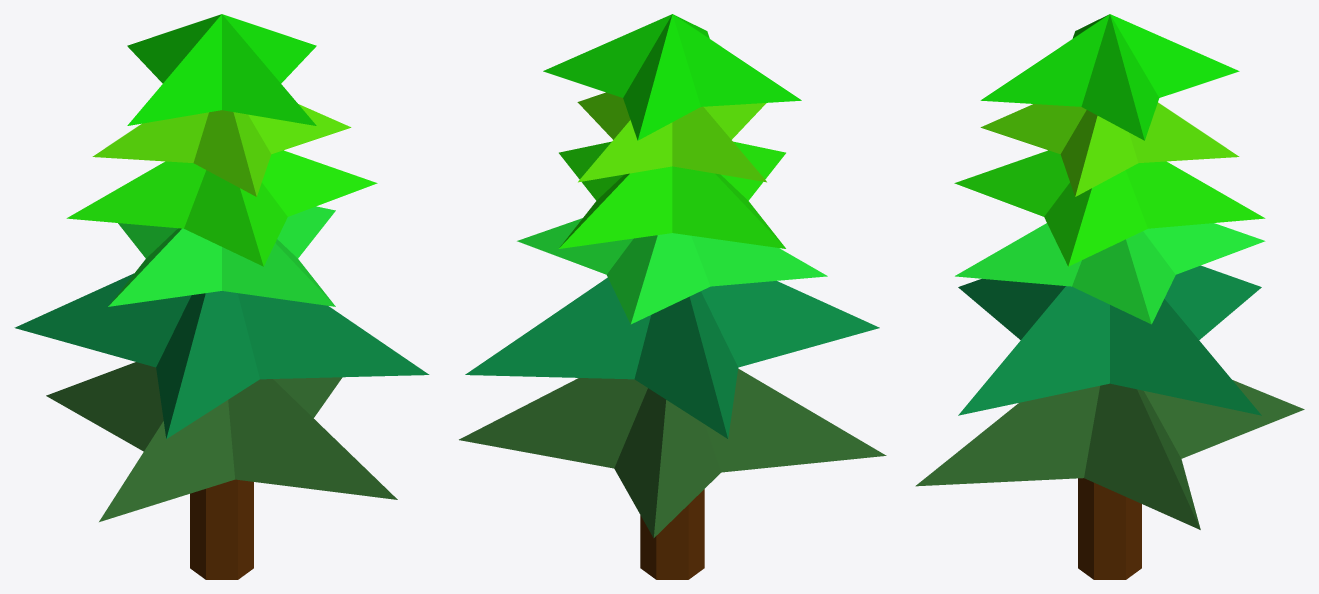
Rendered from Sapin_rond.fbx.
3 renders of one model, left to right at view 1: azimuth 30°, elevation 25°; view 2: azimuth 150°, elevation 25°; view 3: azimuth 270°, elevation 25°, orthographic.
Parts seen in each view (by area): view 1: Branche02, Branche01, Branche04, Branche06, Branche03, Branche05, Tronc_Sapin_rond; view 2: Branche01, Branche02, Branche06, Branche04, Branche03, Branche05, Tronc_Sapin_rond; view 3: Branche02, Branche01, Branche04, Branche06, Branche03, Branche05, Tronc_Sapin_rond.
Part boxes in pixels (x1=…): Branche02: x1=14, y1=273, x2=429, y2=438; Branche01: x1=46, y1=362, x2=397, y2=521; Branche04: x1=66, y1=150, x2=377, y2=266; Branche06: x1=127, y1=14, x2=316, y2=125; Branche03: x1=108, y1=206, x2=335, y2=306; Branche05: x1=92, y1=104, x2=351, y2=196; Tronc_Sapin_rond: x1=190, y1=479, x2=253, y2=579; Branche01: x1=459, y1=368, x2=886, y2=537; Branche02: x1=465, y1=277, x2=879, y2=438; Branche06: x1=543, y1=14, x2=801, y2=140; Branche04: x1=559, y1=141, x2=785, y2=248; Branche03: x1=517, y1=218, x2=827, y2=324; Branche05: x1=577, y1=92, x2=766, y2=182; Tronc_Sapin_rond: x1=640, y1=489, x2=704, y2=579; Branche02: x1=958, y1=265, x2=1261, y2=415; Branche01: x1=915, y1=380, x2=1304, y2=529; Branche04: x1=954, y1=150, x2=1265, y2=266; Branche06: x1=980, y1=14, x2=1239, y2=140; Branche03: x1=955, y1=223, x2=1265, y2=324; Branche05: x1=980, y1=102, x2=1239, y2=196; Tronc_Sapin_rond: x1=1078, y1=478, x2=1141, y2=579.
Size of the model in its own units: 1215 by 1905 by 1215.
